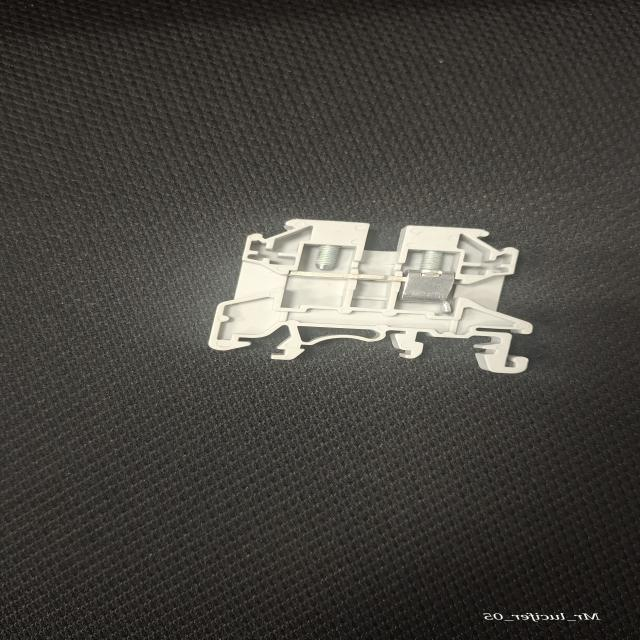Reject: (158, 194, 555, 385)
